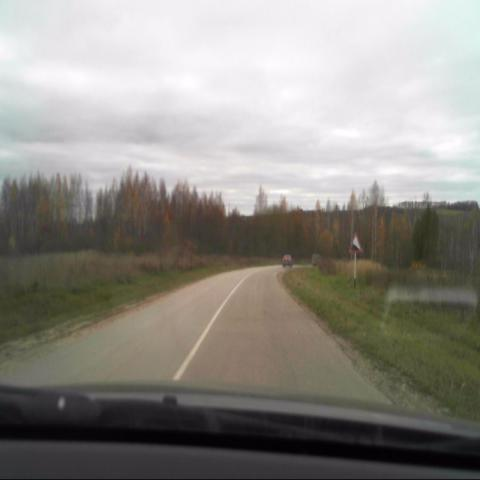1_13: (348, 232, 362, 254)
